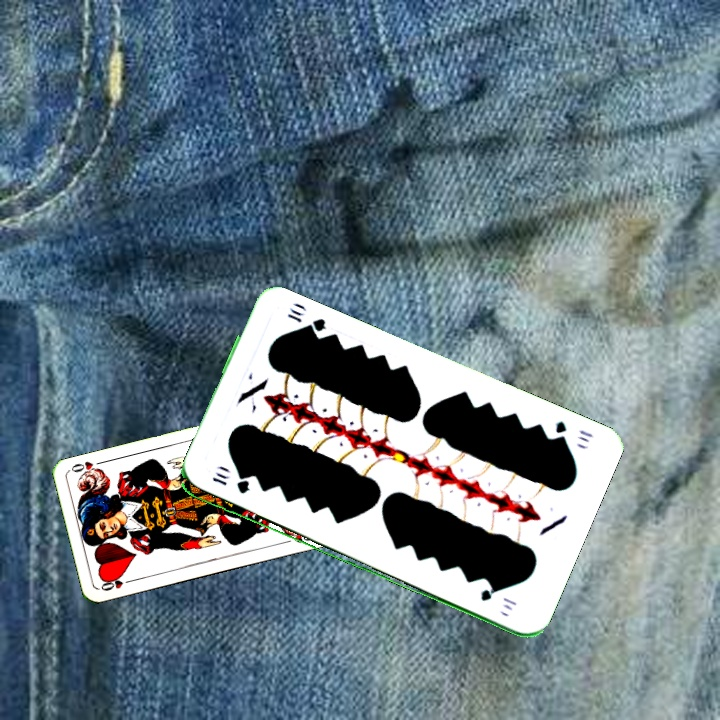G10: (549, 417, 595, 446), (208, 473, 252, 497)
HO: (97, 572, 136, 593)
